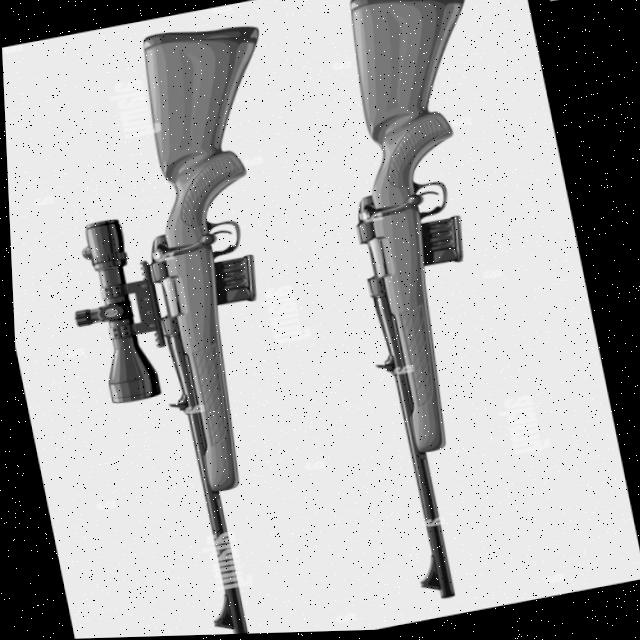firearm: (18, 12, 374, 640), (294, 0, 584, 609)
